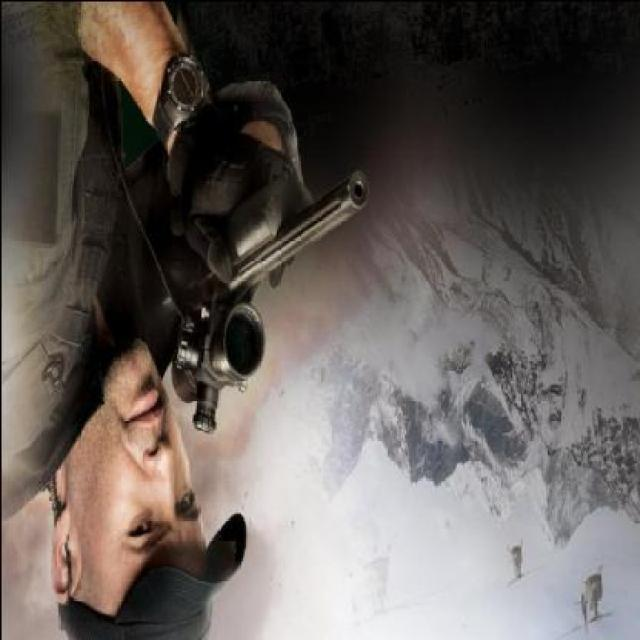weapon: (96, 133, 360, 441)
